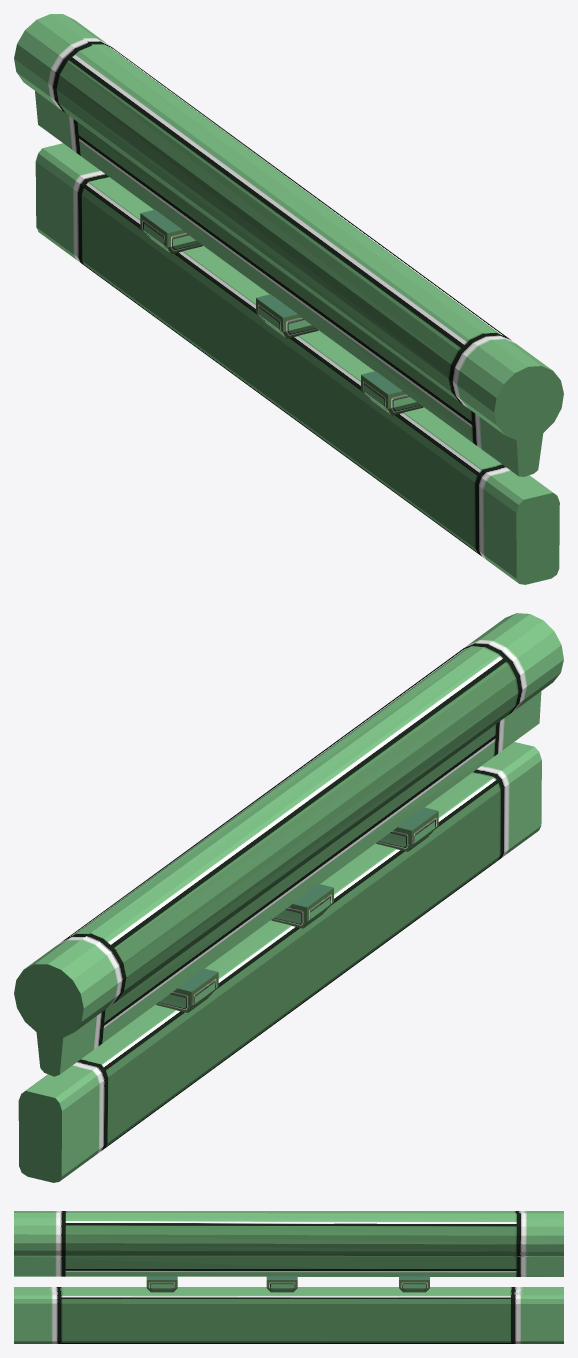
File: SM_R_Dancheong_9.fbx
The picture shows the model from 3 angles, top to bottom: view 1: azimuth 30°, elevation 25°; view 2: azimuth 150°, elevation 25°; view 3: azimuth 270°, elevation 25°; orthographic projection. The views are drawn at different scales.
Visible parts, largest first — view 1: SM_R_Dancheong_9; view 2: SM_R_Dancheong_9; view 3: SM_R_Dancheong_9.
Boxes of the visible parts, <box> form: SM_R_Dancheong_9: <box>14,14,563,584</box>; SM_R_Dancheong_9: <box>14,613,563,1182</box>; SM_R_Dancheong_9: <box>14,1211,563,1343</box>.
Size of the model in its own units: 24.84 by 294 by 73.51.
Materials: 2 (2 with a texture image).
